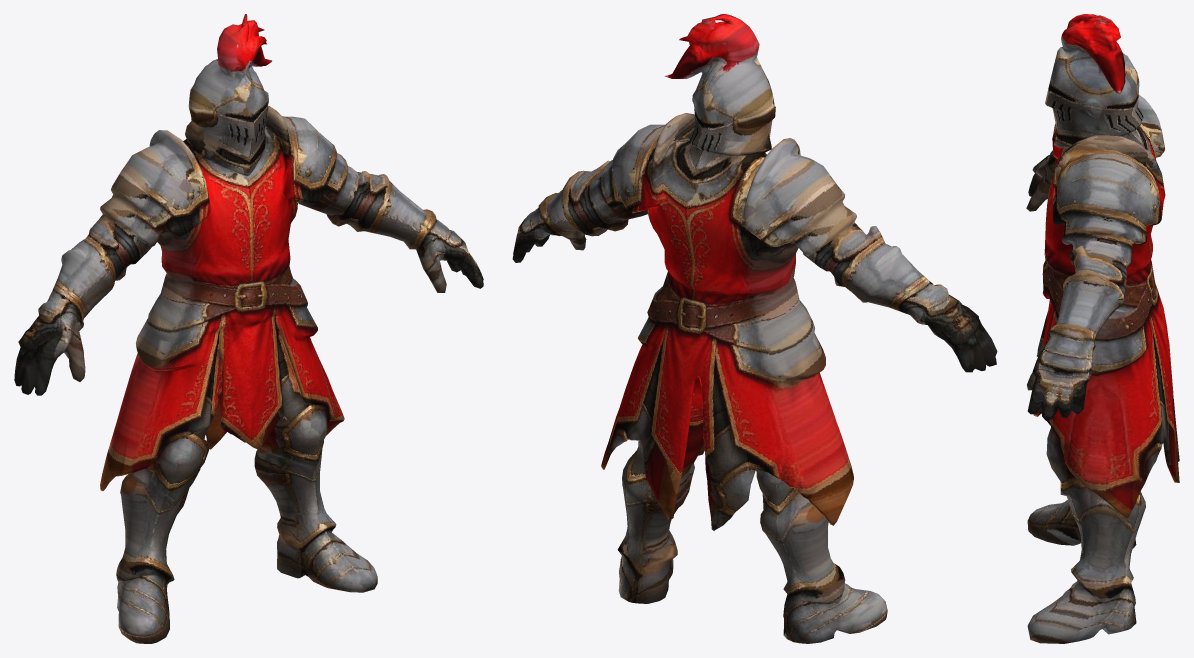
The model's file is knight_red.glb.
3 views of the same model, side by side, from view 1: azimuth 30°, elevation 25°; view 2: azimuth 150°, elevation 25°; view 3: azimuth 270°, elevation 25° (orthographic). The views are drawn at different scales.
Visible parts, largest first — view 1: geometry_0; view 2: geometry_0; view 3: geometry_0.
Boxes of the visible parts, x1,y1,x2,y2 form: geometry_0: (14, 14, 483, 643); geometry_0: (512, 14, 997, 643); geometry_0: (1026, 14, 1179, 643).
Bounding box in the file's own units: 1.52 × 1.8 × 0.434.
1 material, 1 textured.
